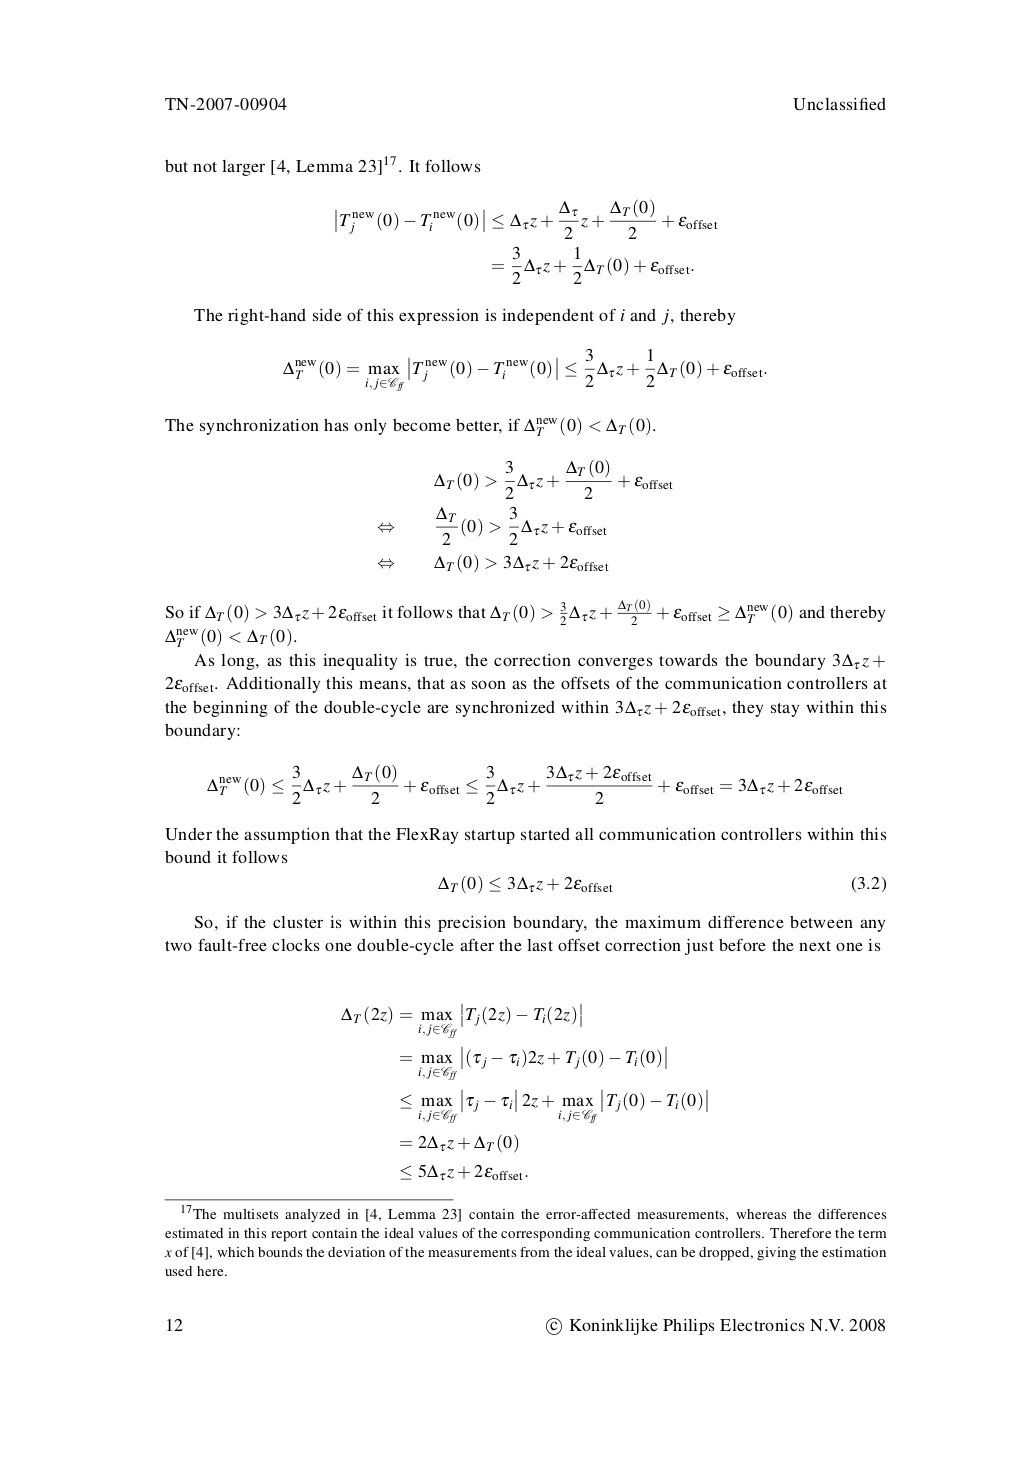formula: (207, 764, 842, 804), (283, 347, 766, 391), (335, 198, 717, 239), (400, 1088, 707, 1123), (434, 458, 672, 499), (378, 505, 606, 545), (400, 1045, 666, 1079), (438, 874, 886, 894), (341, 1002, 581, 1038), (493, 244, 692, 284), (378, 553, 608, 573), (400, 1133, 518, 1153), (400, 1163, 527, 1181)
